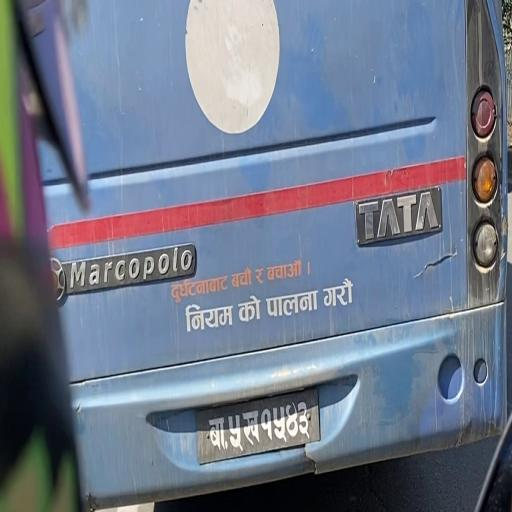license_plate: (191, 387, 324, 464)
